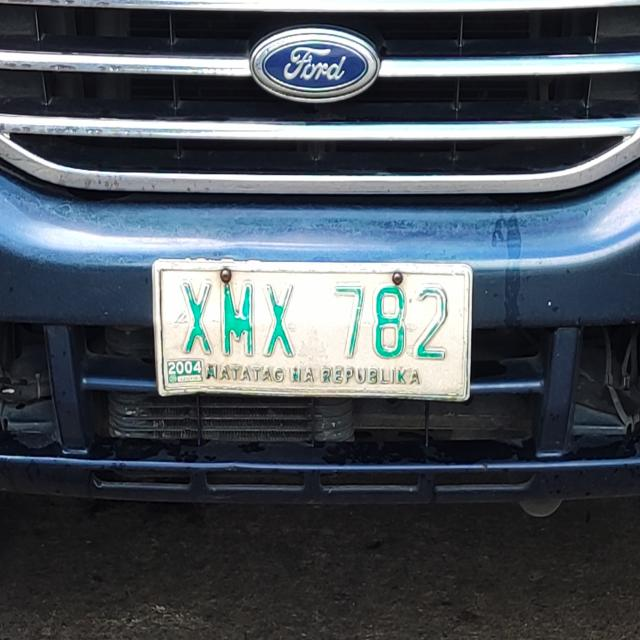plate: (148, 254, 476, 406)
